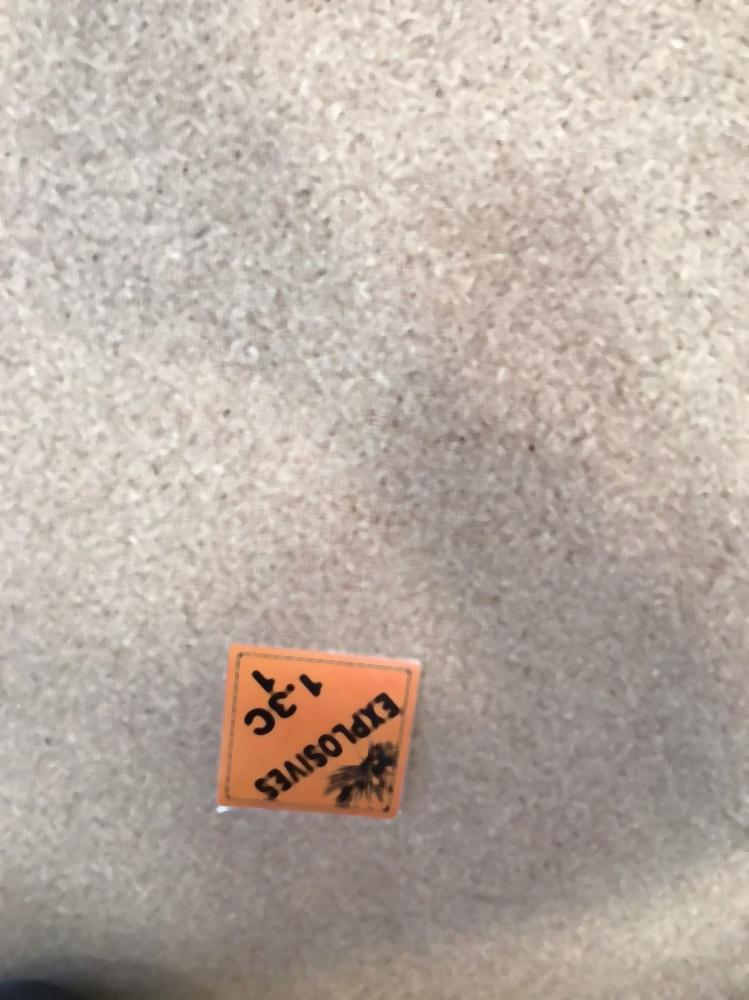explosive: (215, 643, 426, 819)
